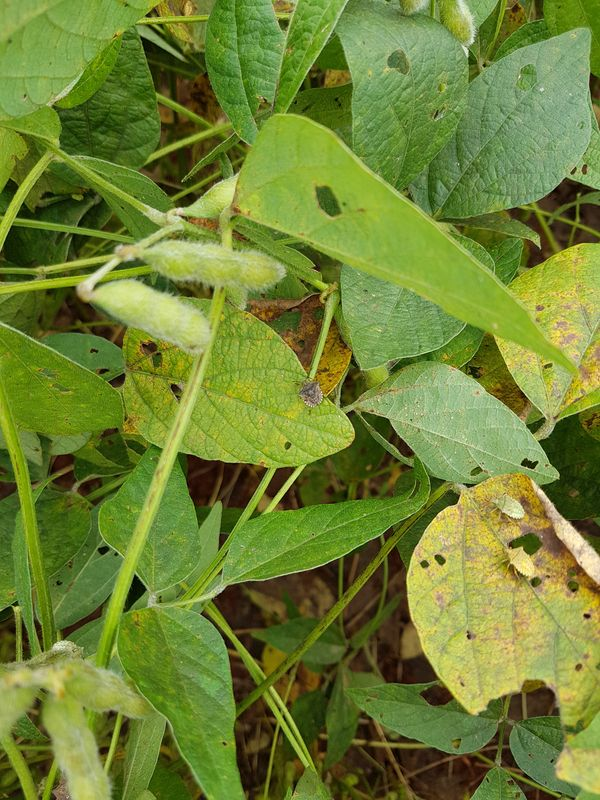Euschistus_heros_ninfa: (497, 543, 541, 583), (488, 491, 528, 528), (291, 374, 327, 413)
